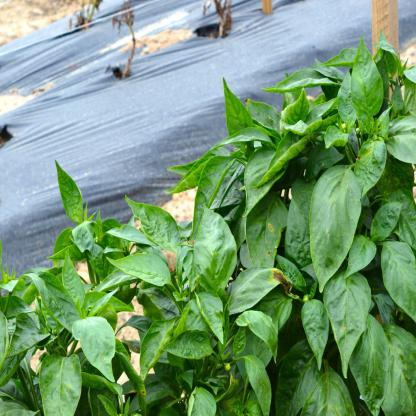bell pepper leaf: (313, 165, 362, 288), (192, 203, 238, 294), (326, 270, 368, 367), (71, 316, 118, 388), (124, 194, 182, 252), (139, 317, 190, 382), (382, 234, 416, 316), (243, 200, 284, 267), (352, 34, 382, 122), (106, 250, 171, 290), (39, 352, 80, 415), (243, 145, 289, 201), (234, 308, 279, 364), (52, 160, 90, 223), (232, 265, 283, 306), (9, 312, 54, 357), (353, 134, 385, 197), (164, 329, 215, 368), (191, 291, 225, 344)
